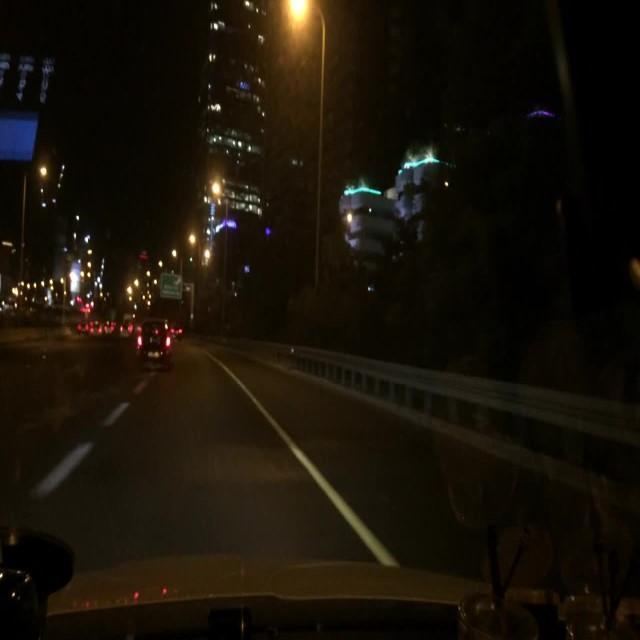normal: (136, 320, 174, 371)
